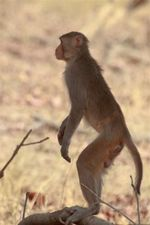monkey: (33, 16, 139, 206)
